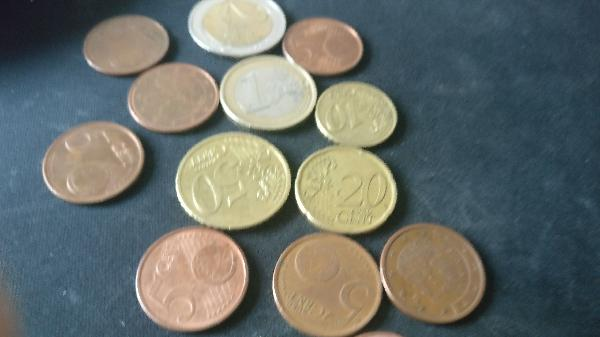Fifty Cent: (177, 133, 293, 231)
Five Cent: (134, 224, 252, 330), (271, 230, 379, 337), (379, 224, 492, 325), (42, 120, 146, 208), (131, 63, 220, 132), (83, 13, 170, 71), (283, 17, 366, 75)
One Euro: (220, 56, 317, 131)
Ten Cent: (313, 79, 403, 147)
Twenty Cent: (294, 144, 398, 235)
Two Euro: (186, 1, 287, 58)
